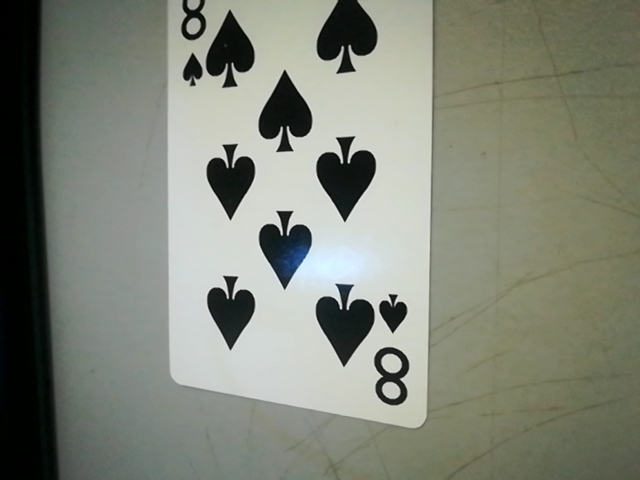ht 8: (367, 288, 425, 419)
